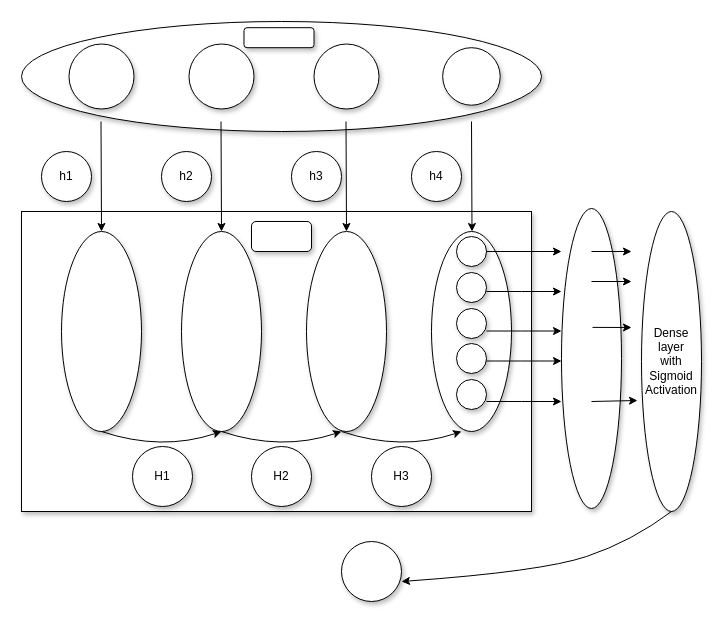
Image size: 726x626. Some labels were removed from this diagram. Here are the shapes that lost their labels. From the top down, the centre of each, then its label:
At point (279, 39): "BI -LSTM".
At point (282, 237): "LSTM".
At point (592, 359): "Dropout Layer p=0.3".
At point (372, 572): "P(Y|X)".
